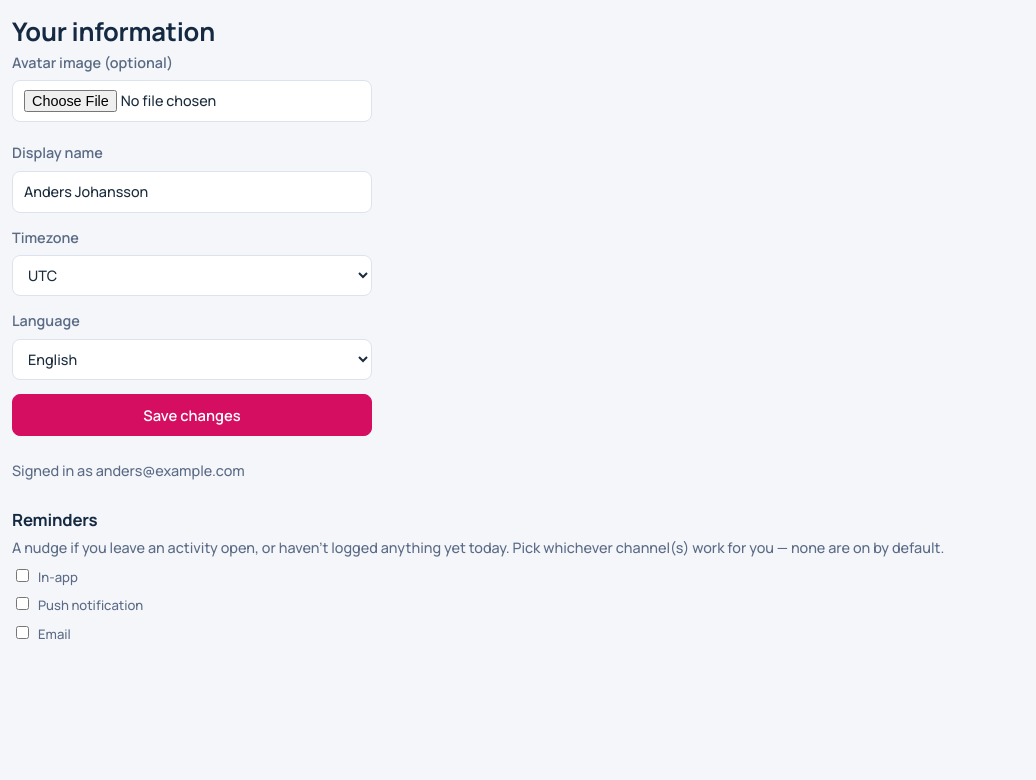
ProfilePage › submits the edited fields and shows a saved confirmation
The width and height of the screenshot is (1036, 780).
Select "Europe/Stockholm" in the dropdown labelled "Timezone" at (192, 276), box [12,255,372,296]
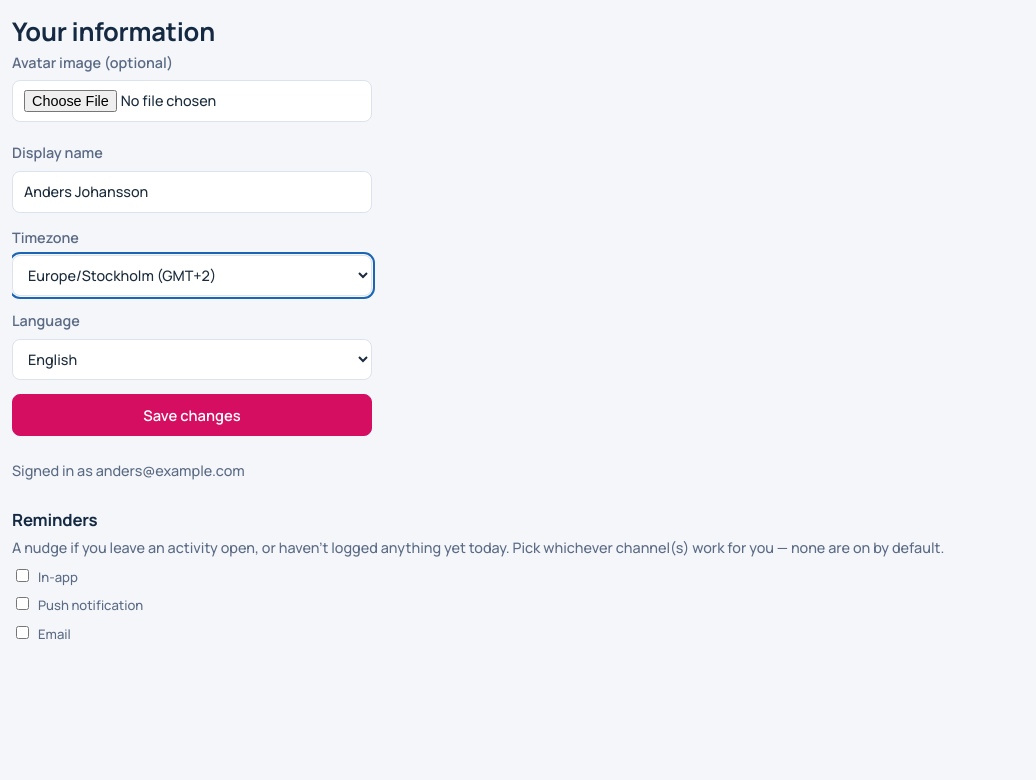
Click the button "Save changes".
click(192, 415)  # box [12,394,372,436]
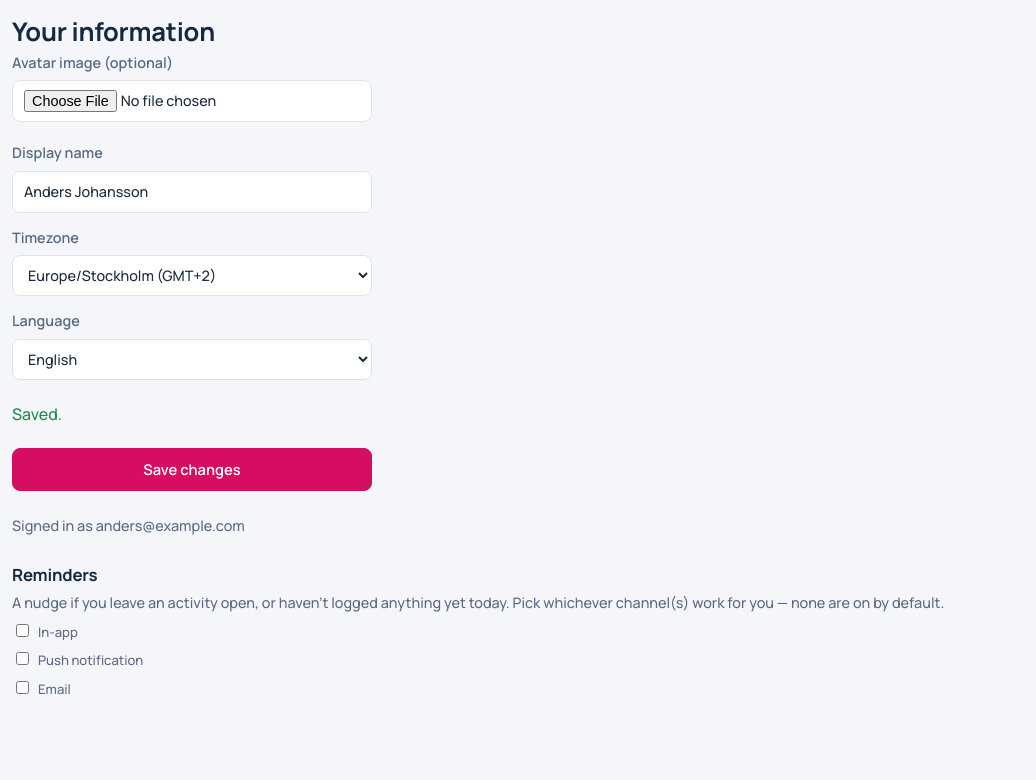
Expected: the text "Saved." is shown, [12,403,62,425]
